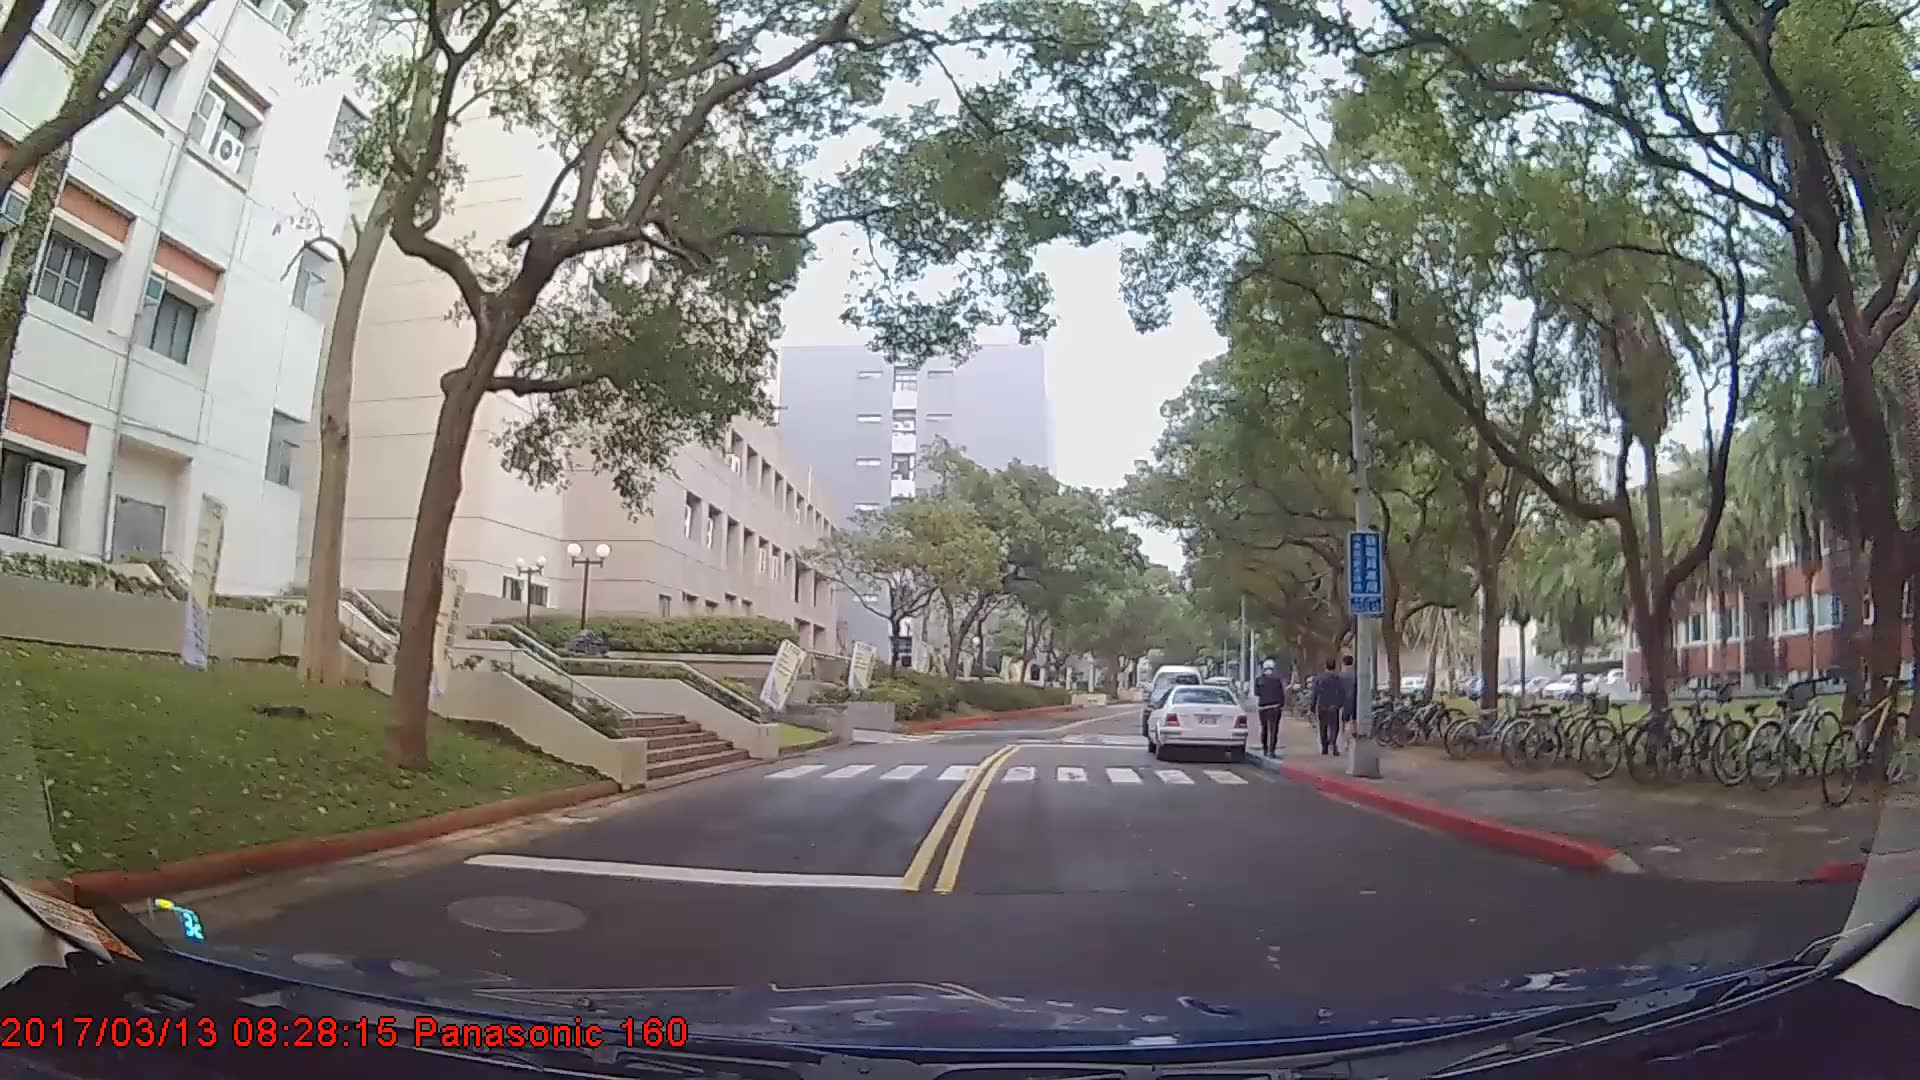pedestrian: (1315, 657, 1353, 757), (1255, 661, 1285, 762)
vehicle: (1141, 682, 1249, 761)
